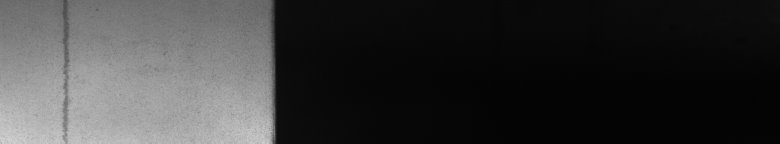hd: (60, 4, 73, 136)
